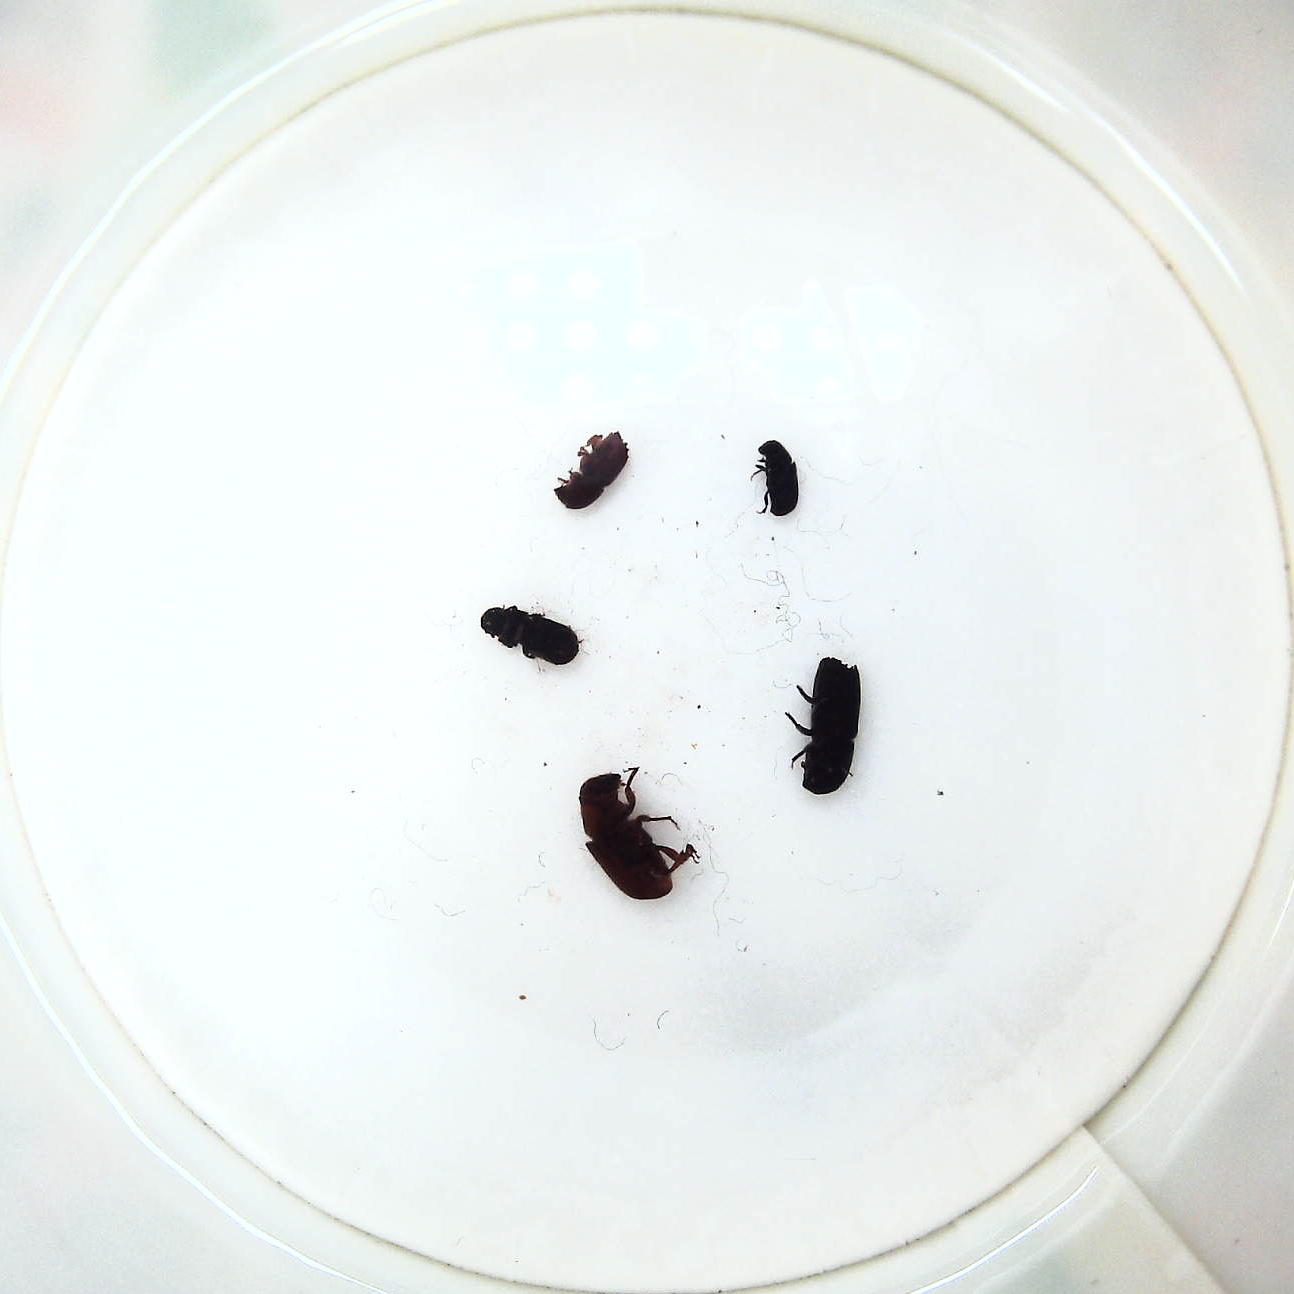Boerner: (784, 653, 867, 797)
Leconte: (576, 767, 696, 909)
armandi: (476, 598, 584, 677)
coleoptera: (752, 434, 808, 523)
linnaeus: (550, 425, 630, 514)
